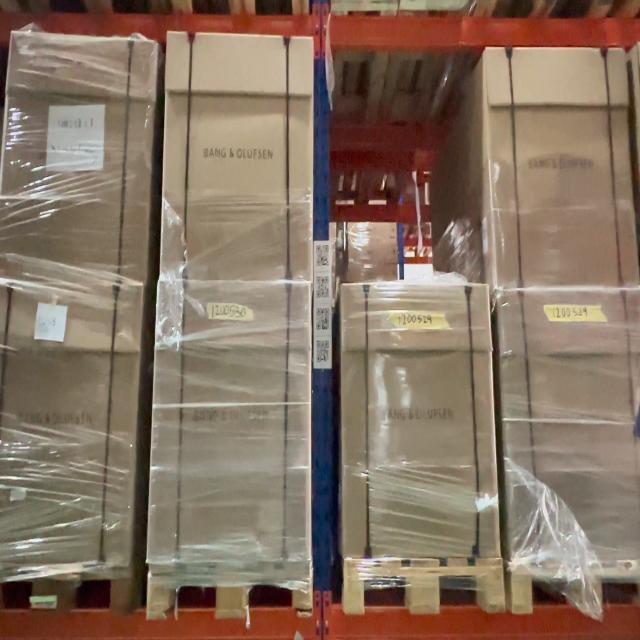box: (146, 285, 311, 564), (340, 284, 498, 560), (160, 36, 315, 286), (485, 46, 639, 287)
